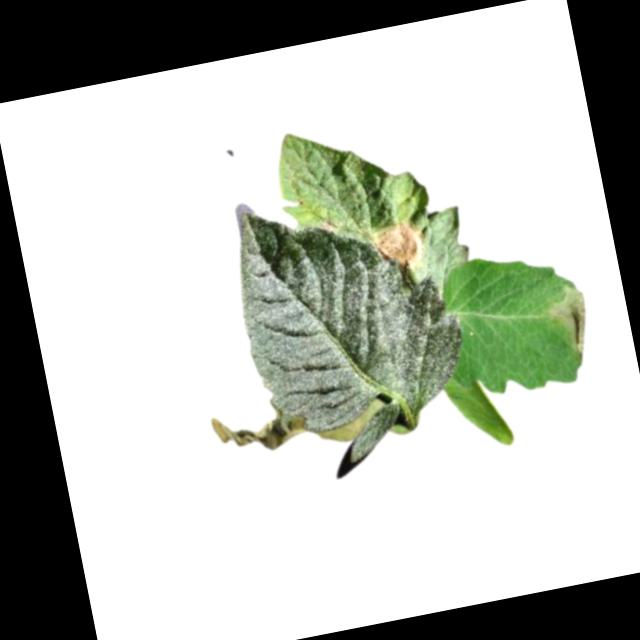Late_blight: (209, 397, 307, 460), (542, 282, 596, 366), (374, 218, 431, 273), (320, 215, 340, 233)
healthy: (224, 178, 475, 440)
